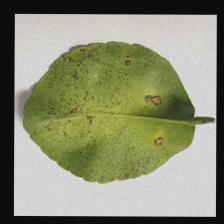canker: (46, 46, 134, 106)
